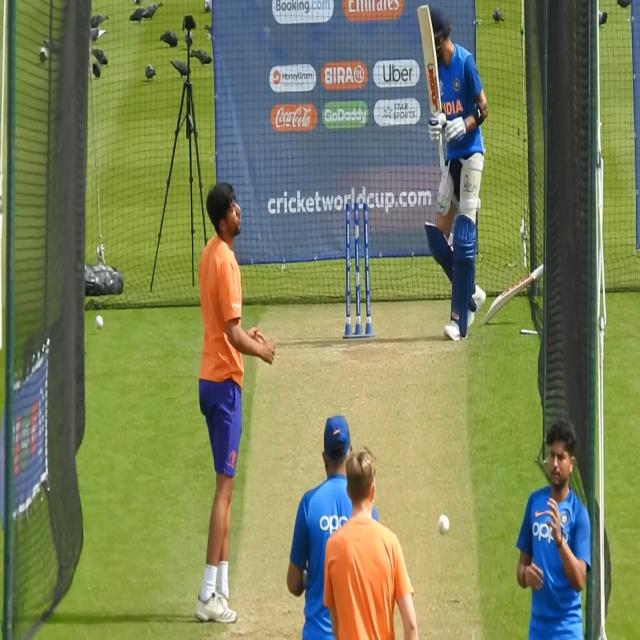ball: (436, 510, 453, 540), (94, 312, 103, 330)
stump: (344, 196, 372, 340)
